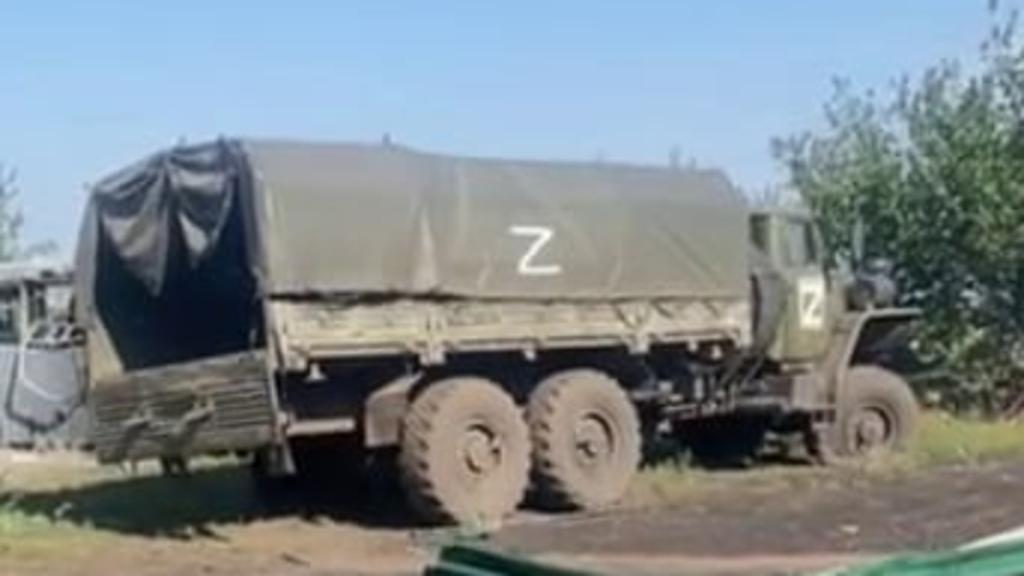TRUCK: (68, 126, 926, 528)
